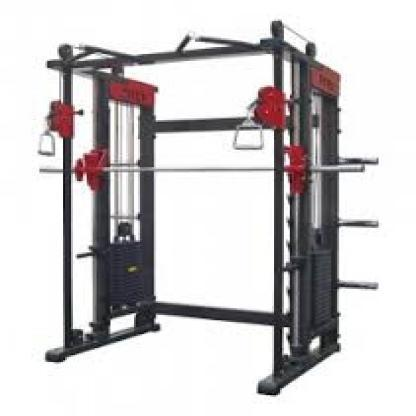smith machine: (40, 17, 379, 396)
